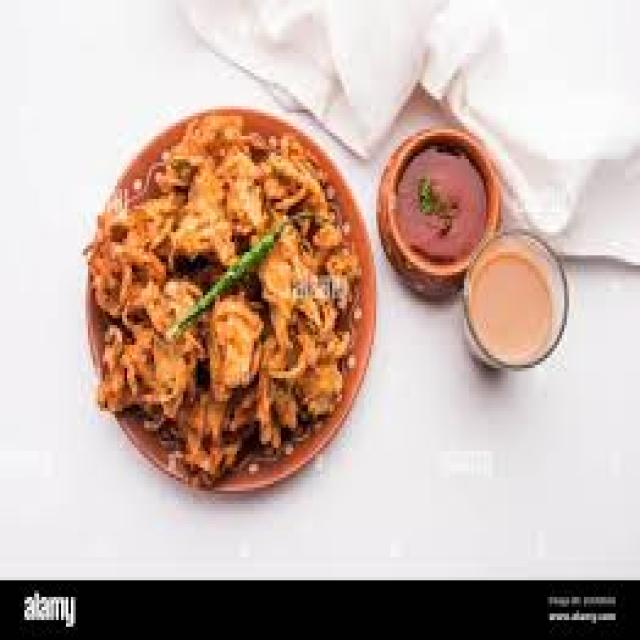BAJI: (85, 122, 360, 489)
